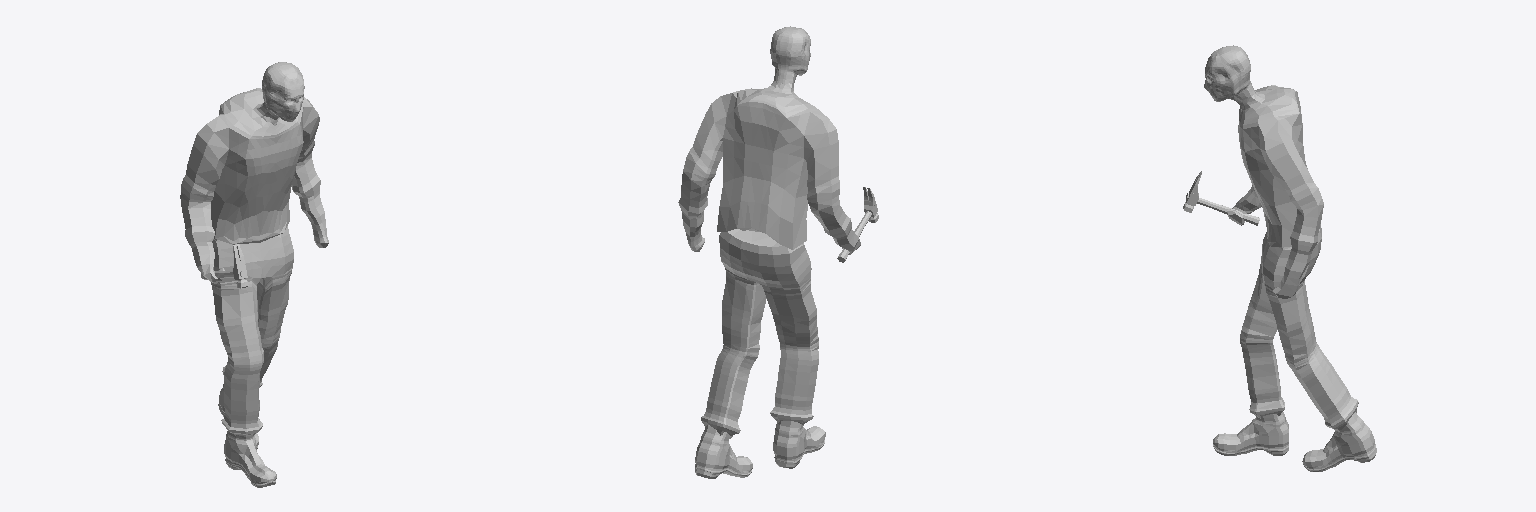
The model's file is Murderer_Idle70.obj.
3 renders of one model, left to right at view 1: azimuth 30°, elevation 25°; view 2: azimuth 150°, elevation 25°; view 3: azimuth 270°, elevation 25°, orthographic.
Visible parts, largest first — view 1: Körper, Beine, Stiefel, Hammer; view 2: Körper, Beine, Stiefel, Hammer; view 3: Körper, Beine, Stiefel, Hammer.
Boxes of the visible parts, <box> form: Körper: <box>180,62,328,283</box>; Beine: <box>211,226,293,435</box>; Stiefel: <box>218,384,276,487</box>; Hammer: <box>201,244,248,288</box>; Körper: <box>678,26,860,254</box>; Beine: <box>701,229,818,438</box>; Stiefel: <box>695,421,825,478</box>; Hammer: <box>837,187,878,262</box>; Körper: <box>1204,45,1323,298</box>; Beine: <box>1240,224,1358,429</box>; Stiefel: <box>1213,412,1376,471</box>; Hammer: <box>1183,171,1259,225</box>.
Size of the model in its own units: 0.358 by 0.9622 by 0.4081.